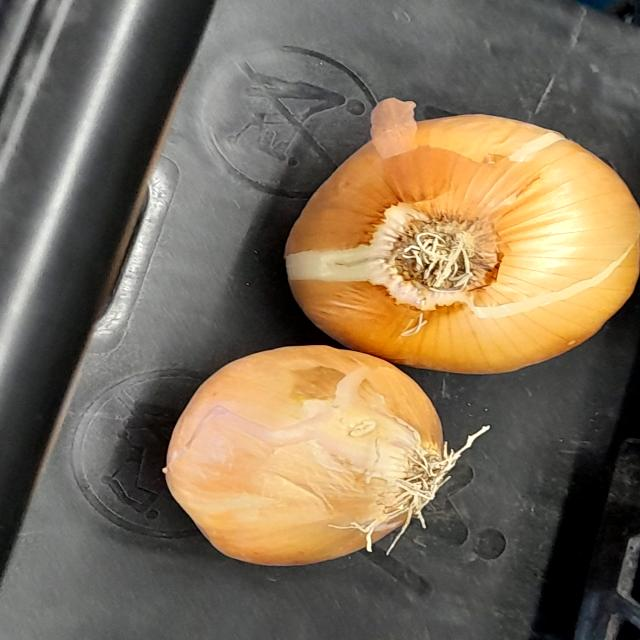onion: (259, 85, 640, 369), (154, 328, 466, 570)
